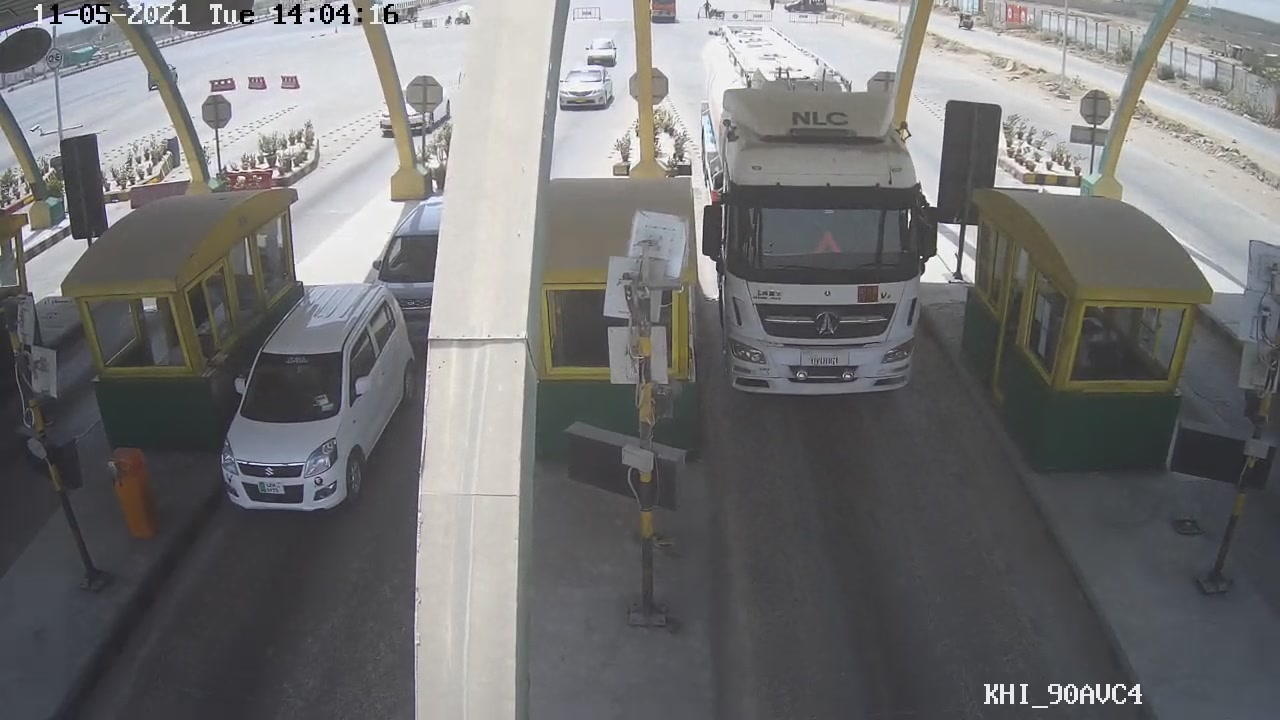F6: (697, 45, 938, 413)
